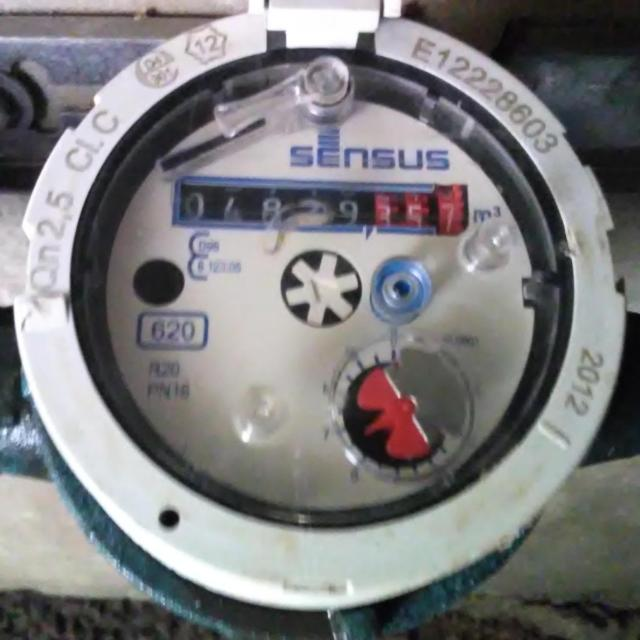gaz_meter: (112, 64, 541, 515)
indication: (168, 180, 467, 234)
